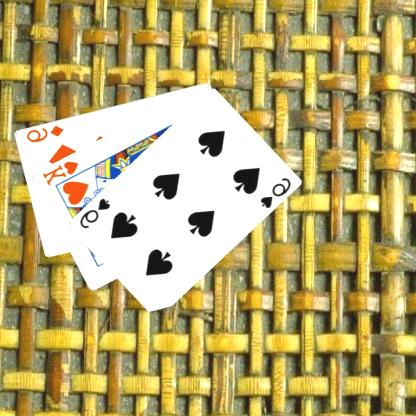6S: (78, 195, 113, 230), (259, 175, 294, 210)
9D: (25, 122, 66, 144)
KH: (42, 158, 82, 187)
